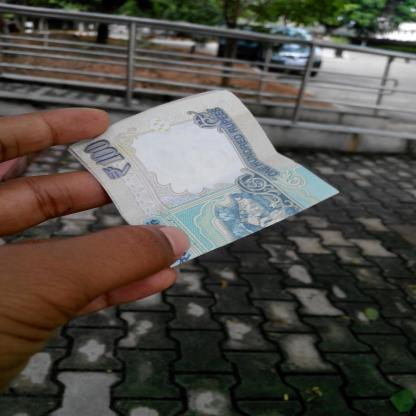Old100Back: (68, 89, 340, 267)
